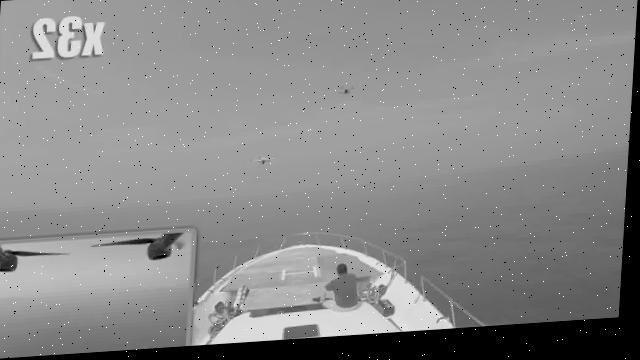drone: (237, 150, 283, 178), (336, 79, 362, 104)
